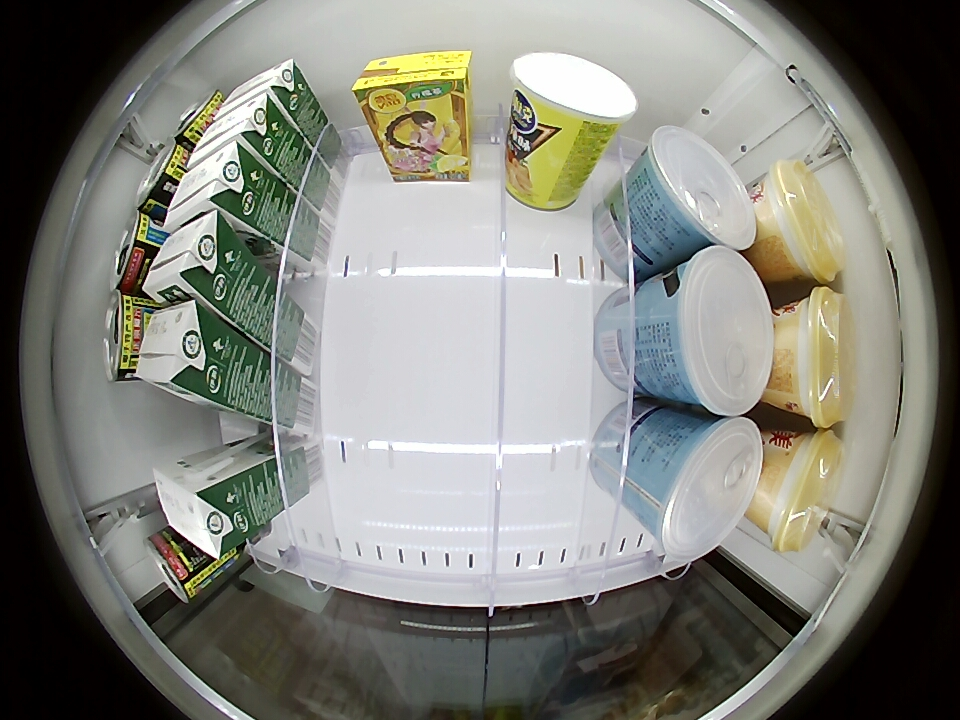haitai: (654, 245, 776, 418), (639, 412, 765, 563), (635, 125, 758, 254)
jindian: (153, 458, 249, 560), (142, 208, 237, 308), (163, 139, 257, 233), (137, 299, 221, 398), (186, 92, 280, 165), (219, 58, 304, 117)
kebike: (510, 53, 637, 142)
weitaningmeng: (352, 49, 471, 120)
yezhi: (146, 528, 206, 602), (111, 209, 159, 294), (104, 292, 147, 383), (135, 140, 188, 212), (173, 88, 223, 143)
youlemei: (754, 159, 845, 285), (754, 427, 844, 553), (778, 286, 853, 428)
